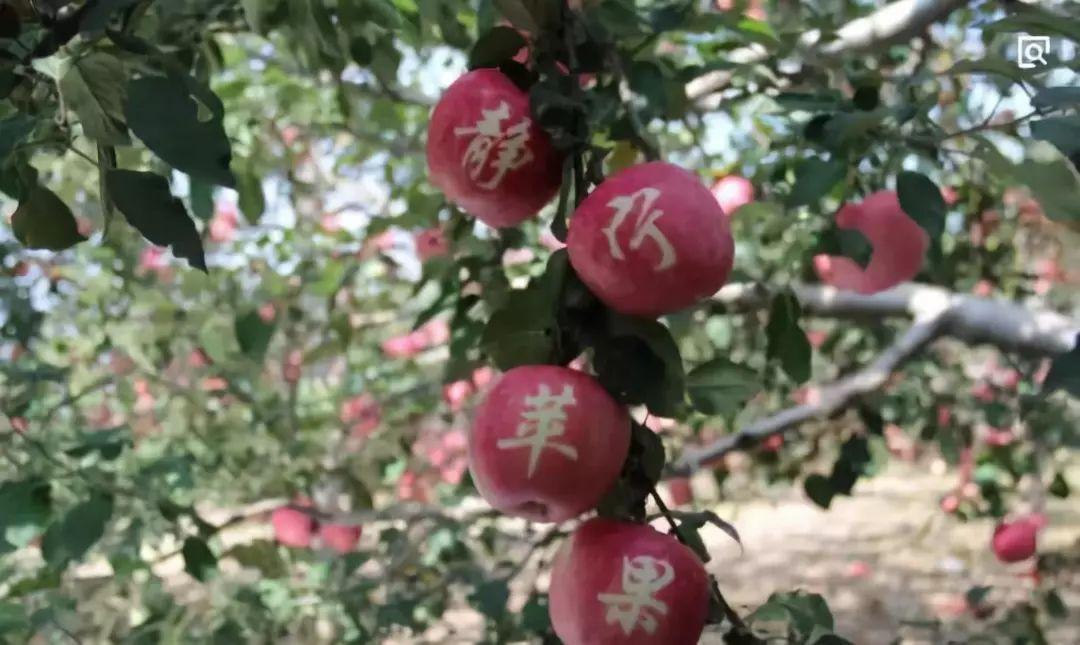apple: (560, 154, 732, 316), (470, 358, 627, 525), (428, 65, 560, 225), (552, 517, 708, 644)
